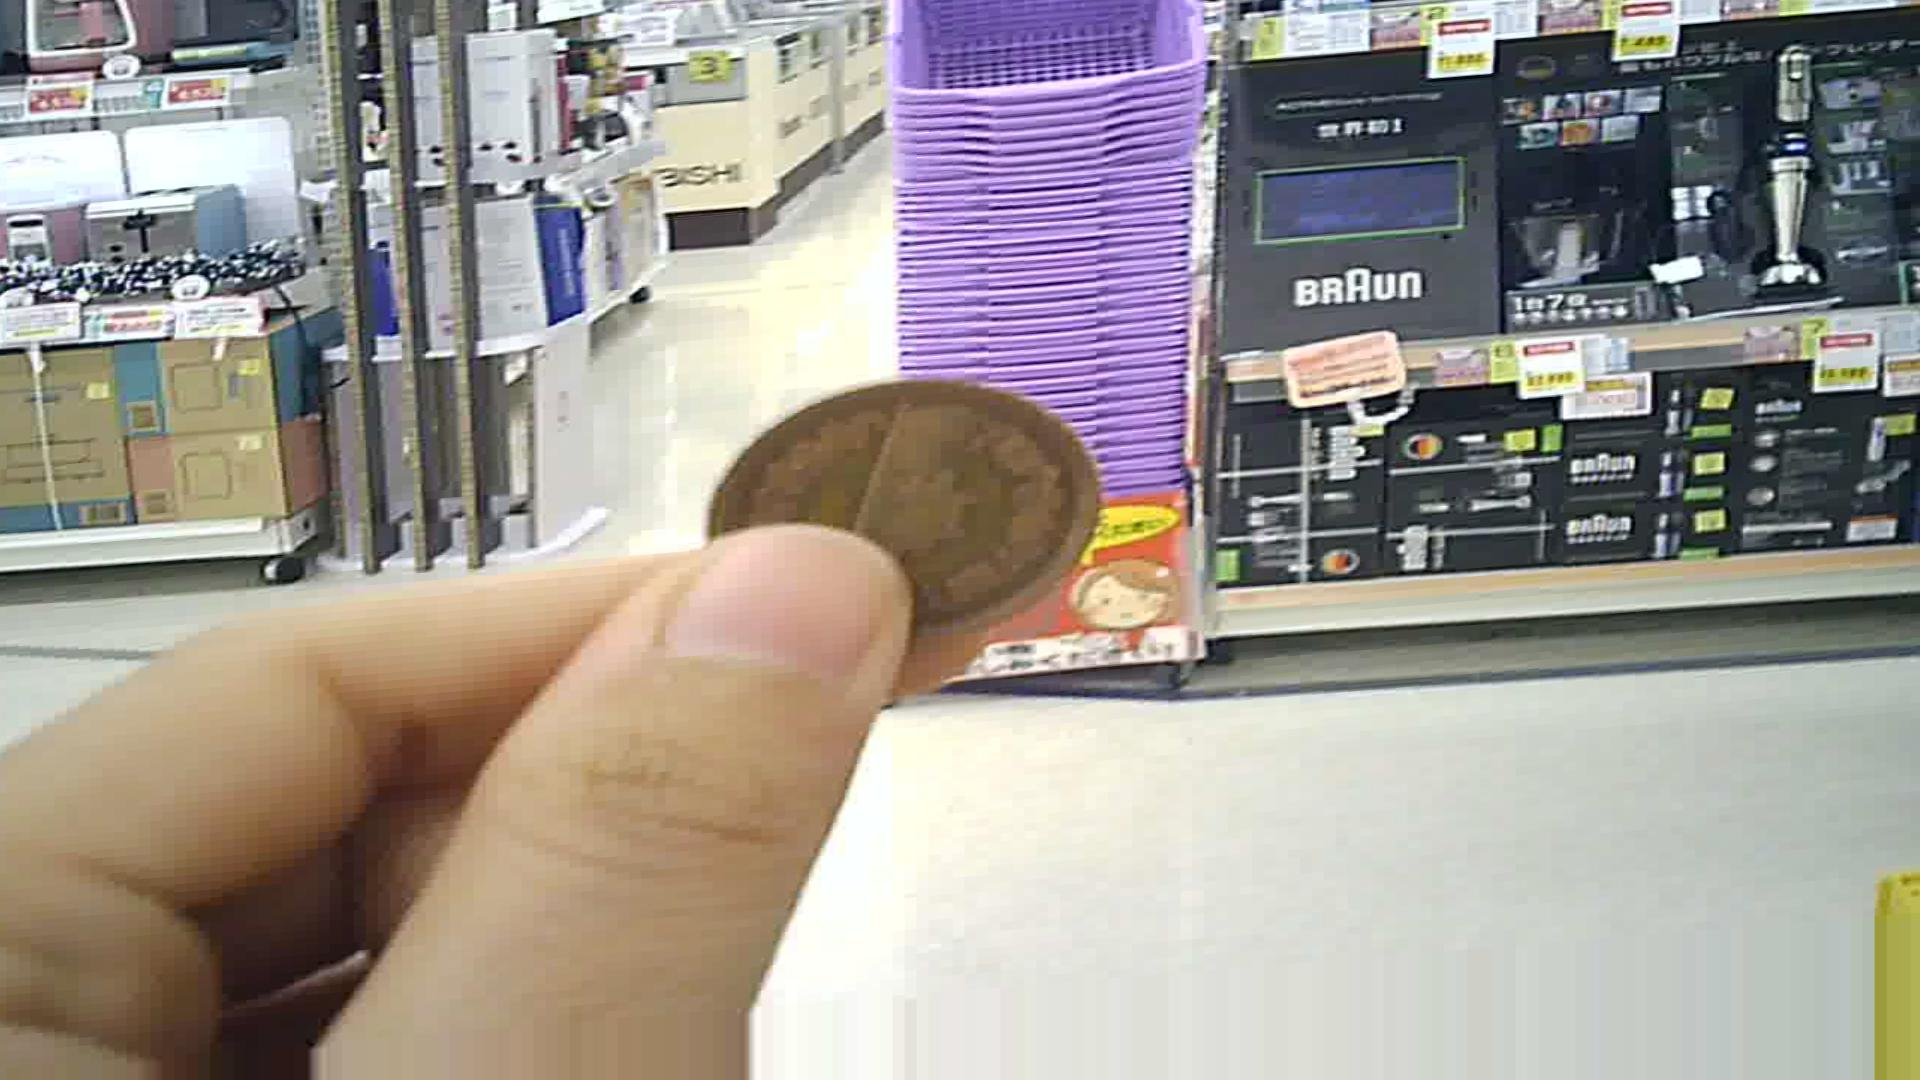10 Yen: (702, 382, 1131, 654)
